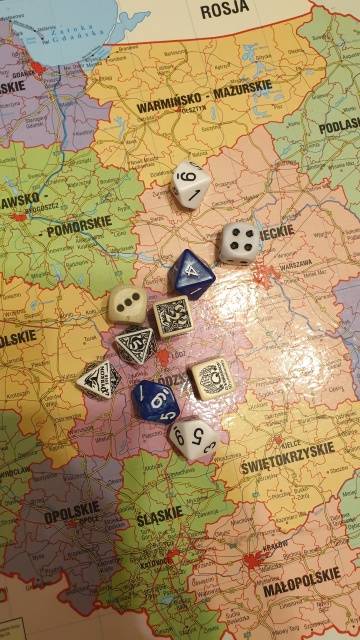d10-4: (171, 255, 209, 291)
d10-5: (166, 417, 229, 465)
d10-9: (129, 377, 180, 425), (170, 155, 210, 210)
d6-3: (104, 283, 148, 323)
d6-4: (217, 221, 261, 265)
d6p-2: (148, 296, 198, 338)
d6p-6: (188, 354, 235, 404)
d8p-1: (67, 355, 121, 402)
d8p-5: (113, 325, 156, 365)
